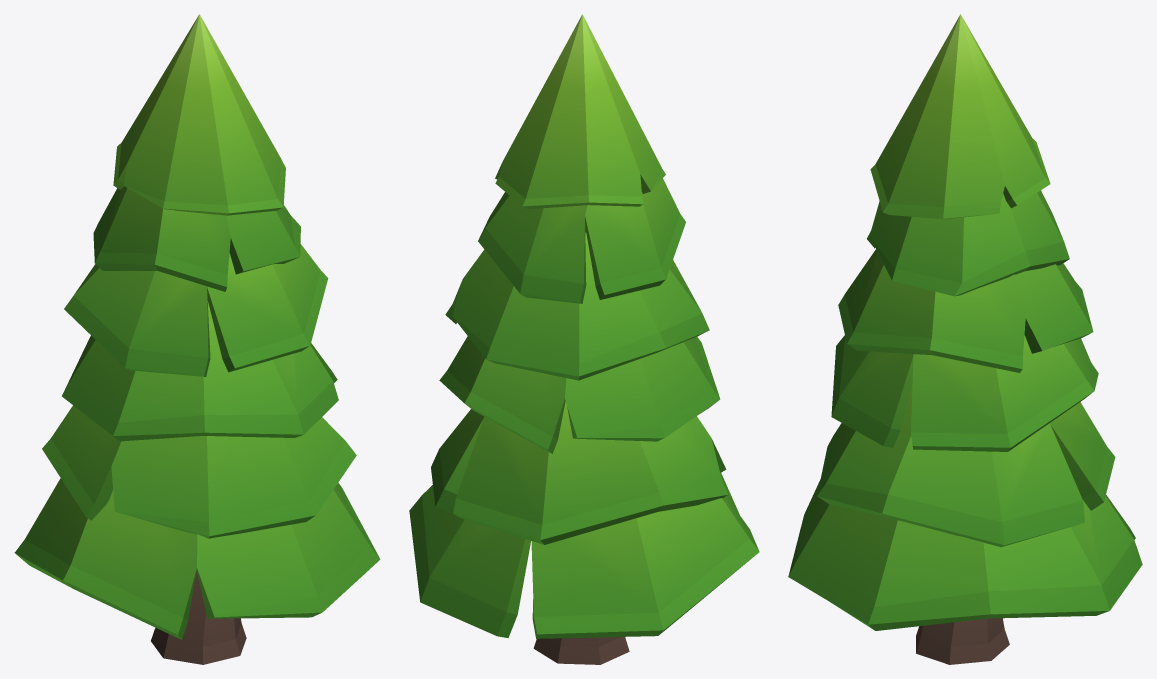
The model's file is ConiferTree2.fbx.
3 renders of one model, left to right at view 1: azimuth 30°, elevation 25°; view 2: azimuth 150°, elevation 25°; view 3: azimuth 270°, elevation 25°, orthographic.
Visible parts, largest first — view 1: Cone.005; view 2: Cone.005; view 3: Cone.005.
Boxes of the visible parts, x1,y1,x2,y2 form: Cone.005: (14, 14, 380, 664); Cone.005: (409, 14, 759, 664); Cone.005: (788, 14, 1142, 664).
Size of the model in its own units: 423 by 811 by 413.
